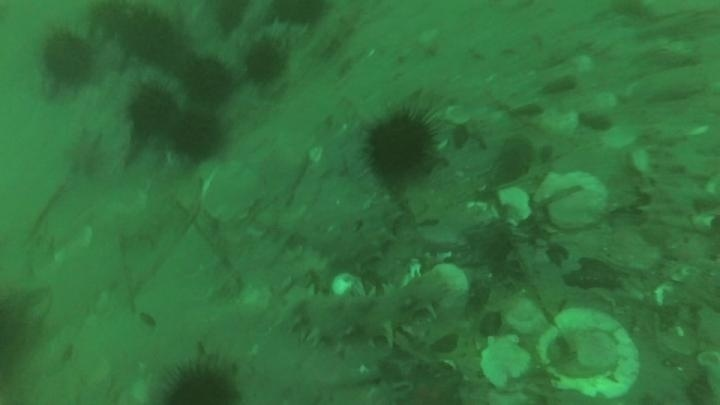echinus: (362, 109, 439, 182), (155, 353, 245, 404), (37, 27, 99, 90), (123, 10, 188, 65), (168, 108, 225, 162), (181, 56, 238, 109), (126, 84, 179, 138), (85, 1, 145, 38), (242, 40, 288, 86), (265, 1, 331, 30), (211, 1, 250, 37)
holothurian: (277, 269, 455, 351), (257, 194, 402, 271), (637, 131, 711, 248), (309, 3, 365, 60), (252, 18, 313, 50)
starfish: (396, 364, 466, 404), (62, 128, 108, 179)
